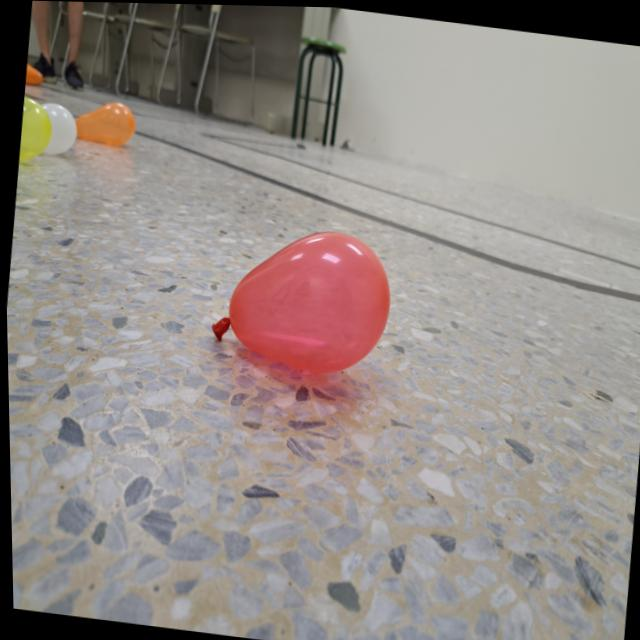other: (71, 98, 137, 148), (17, 95, 54, 165), (37, 101, 81, 156)
red: (204, 215, 396, 381)
